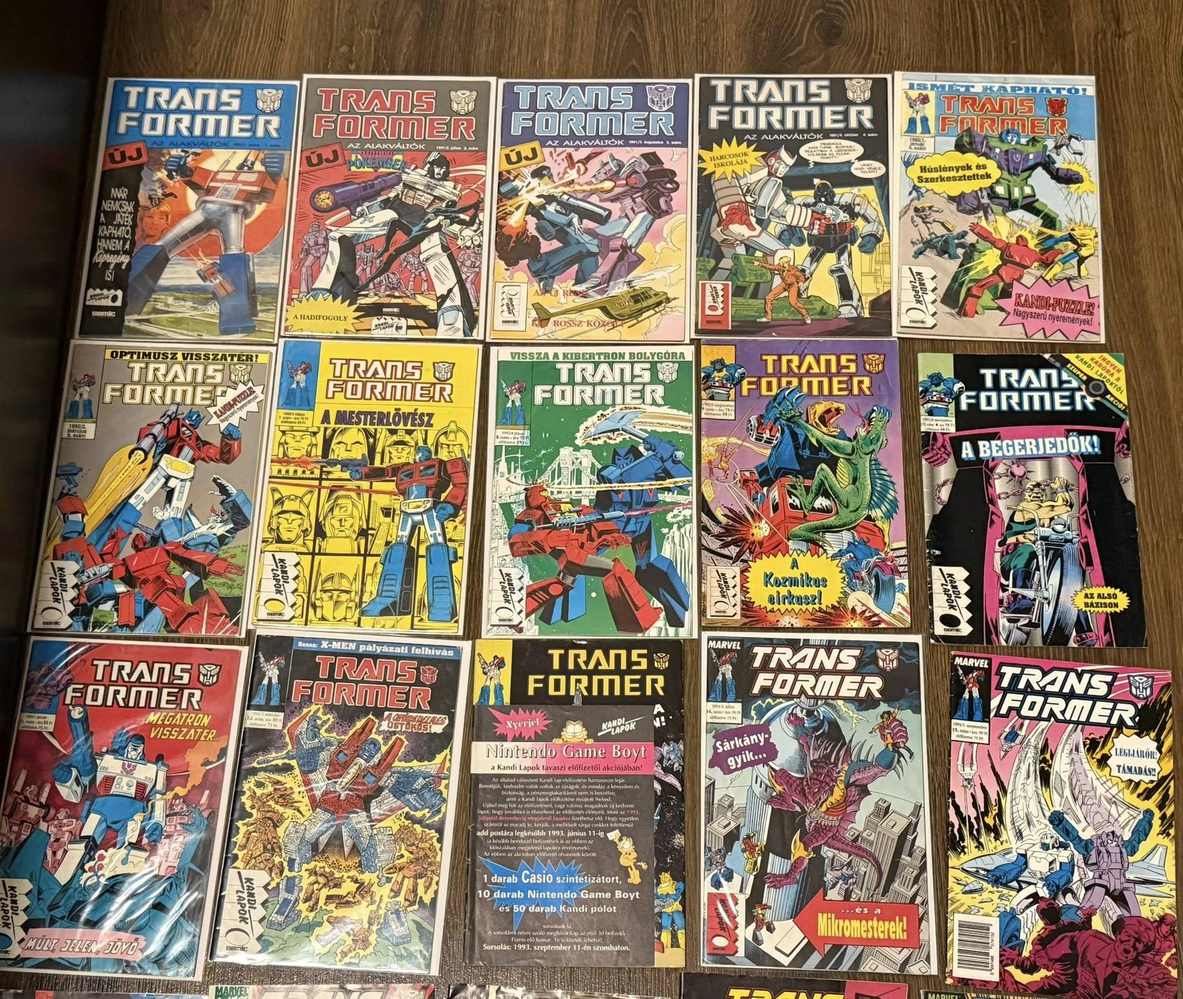comic: (212, 618, 477, 986), (0, 629, 247, 985), (699, 632, 942, 974), (947, 651, 1179, 999), (29, 329, 275, 649), (914, 341, 1146, 659), (467, 637, 690, 967), (252, 328, 485, 642), (78, 67, 299, 351), (482, 346, 696, 638), (697, 337, 910, 630), (282, 68, 495, 343), (892, 71, 1104, 344), (489, 76, 692, 344), (693, 74, 891, 336)
